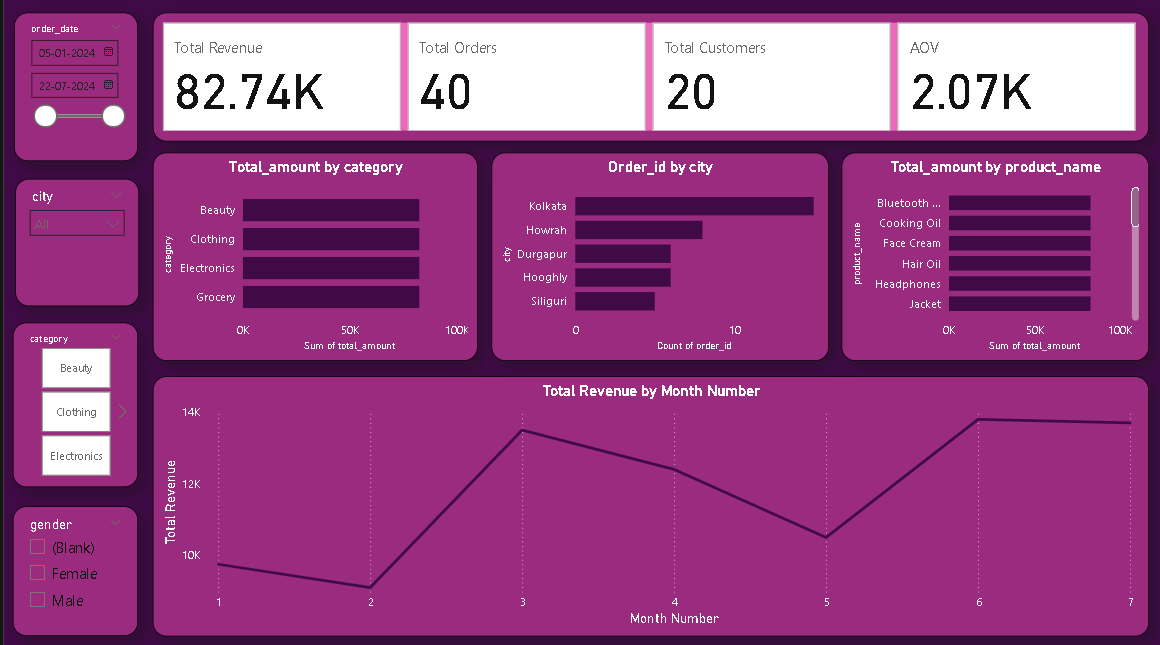

This screenshot's page, from the dashboard's own definition file:
{"tool":"powerbi","page":{"name":"Sales  Overview","canvas":[1280,720],"ordinal":0},"visuals":[{"type":"cardVisual","fields":{"Data":["DateTable.Total Revenue","DateTable.Total Orders","DateTable.Total Customers","DateTable.AOV"]},"box":[163.3,19.2,1093.7,141.3],"z":0},{"type":"lineChart","fields":{"Category":["DateTable.Month Number"],"Y":["DateTable.Total Revenue"]},"box":[163.3,418.5,1093.7,285.4],"z":1},{"type":"barChart","title":"Total_amount by category","fields":{"Category":["products.category"],"Y":["Sum(orders.total_amount)"]},"box":[163.3,172.9,356.8,229.2],"z":2},{"type":"barChart","title":"Total_amount by product_name","fields":{"Category":["products.product_name"],"Y":["Sum(orders.total_amount)"]},"box":[919.4,172.9,337.6,229.2],"z":3},{"type":"barChart","title":"Order_id by city","fields":{"Category":["customers.city"],"Y":["CountNonNull(orders.order_id)"]},"box":[535.2,172.9,370.5,229.2],"z":4},{"type":"slicer","fields":{"Values":["orders.order_date"]},"box":[11,19.2,135.8,163.3],"z":5},{"type":"slicer","fields":{"Values":["customers.city"]},"box":[12.3,201.7,135.8,140],"z":6},{"type":"slicer","fields":{"Values":["products.category"]},"box":[9.6,359.5,137.2,181.1],"z":7},{"type":"slicer","fields":{"Values":["customers.gender"]},"box":[9.6,561.2,137.2,142.7],"z":8}]}

Visuals, with their boxes in screenshot pixels (x1, y1, x2, y2), scaled from the page's 1280x720 canvas onto the 1160x645 screenshot:
cardVisual - DateTable.Total Revenue x DateTable.Total Orders: <bbox>148, 17, 1139, 144</bbox>
lineChart - DateTable.Month Number x DateTable.Total Revenue: <bbox>148, 375, 1139, 631</bbox>
"Total_amount by category" barChart: <bbox>148, 155, 471, 360</bbox>
"Total_amount by product_name" barChart: <bbox>833, 155, 1139, 360</bbox>
"Order_id by city" barChart: <bbox>485, 155, 821, 360</bbox>
slicer - orders.order_date: <bbox>10, 17, 133, 163</bbox>
slicer - customers.city: <bbox>11, 181, 134, 306</bbox>
slicer - products.category: <bbox>9, 322, 133, 484</bbox>
slicer - customers.gender: <bbox>9, 503, 133, 631</bbox>
